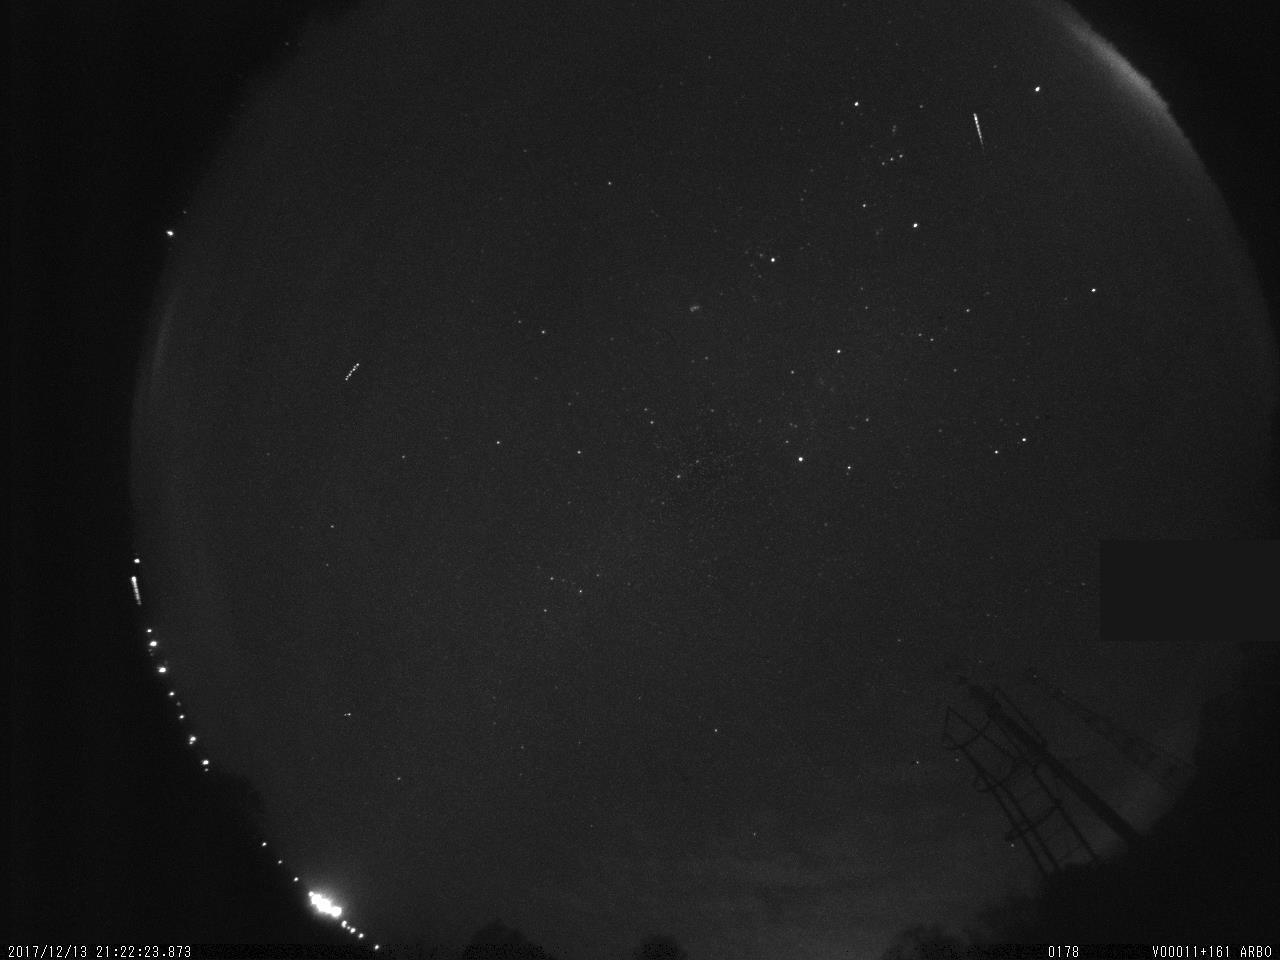meteor: (950, 94, 1015, 168)
